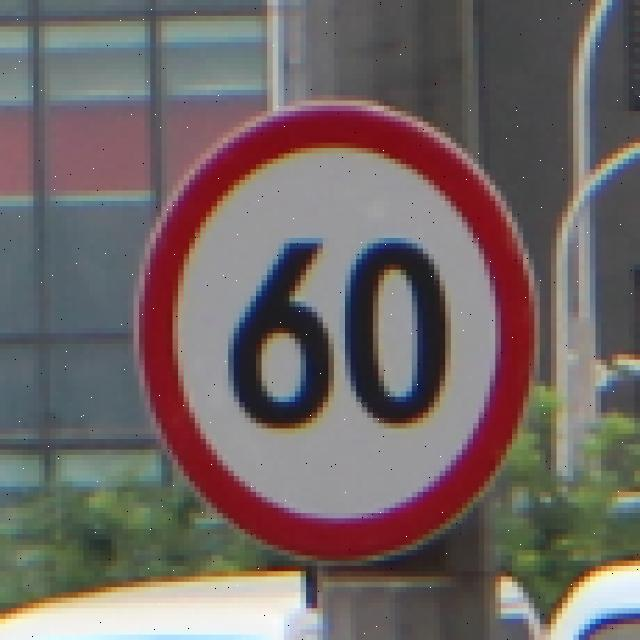speed limit 60: (134, 100, 536, 567)
